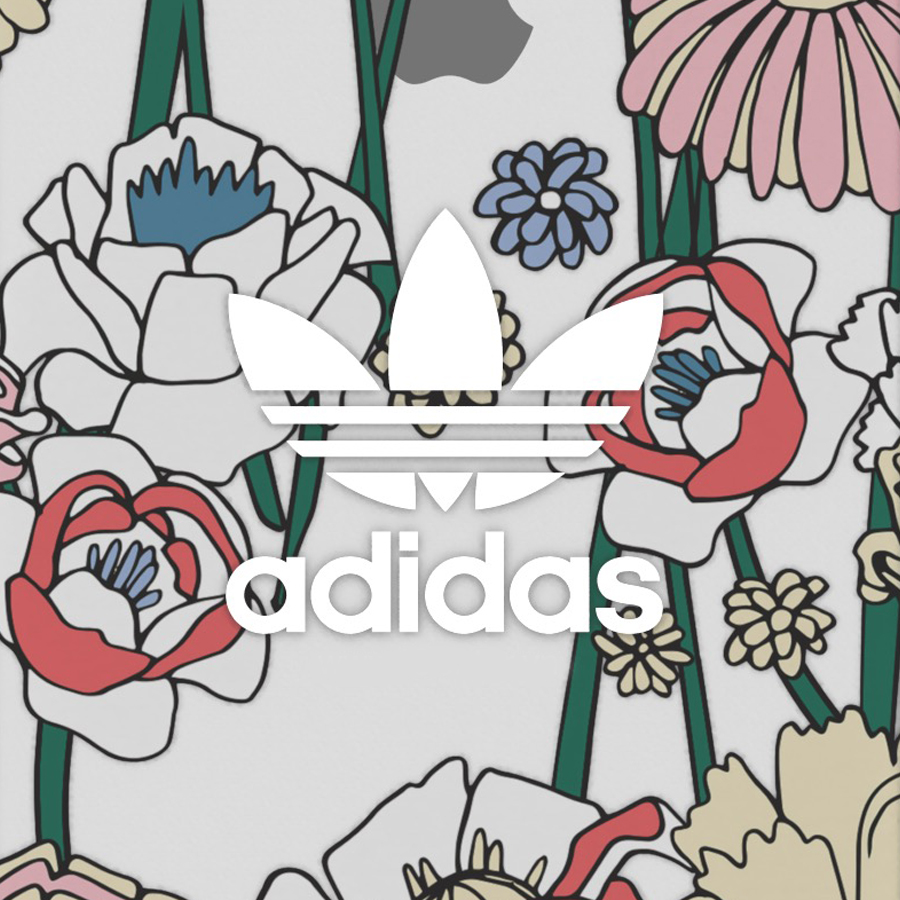Adidas: (214, 205, 674, 649)
